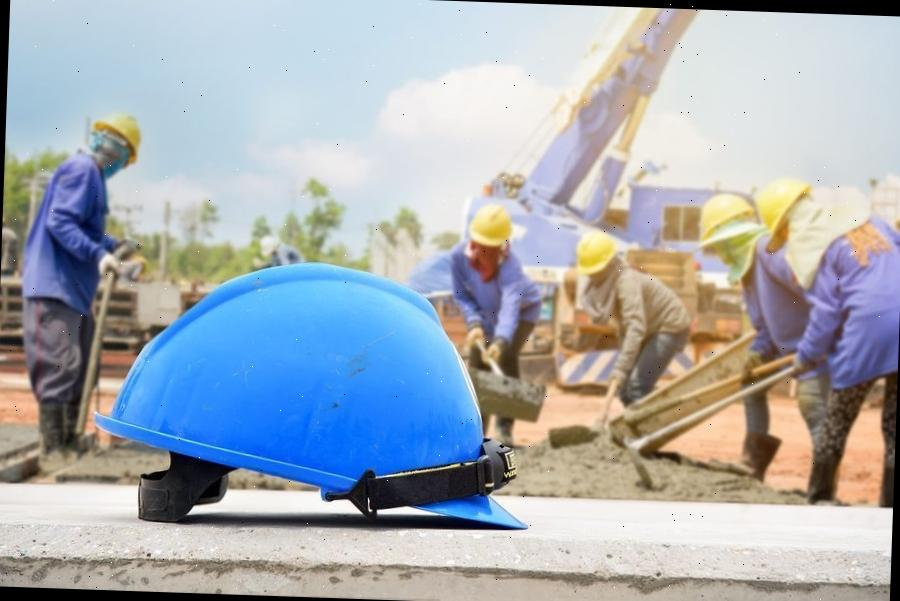helmet: (77, 253, 536, 536), (755, 174, 812, 248), (88, 110, 147, 169), (696, 190, 754, 244), (468, 200, 520, 246), (574, 227, 620, 275)
no_wear: (592, 275, 690, 337)
